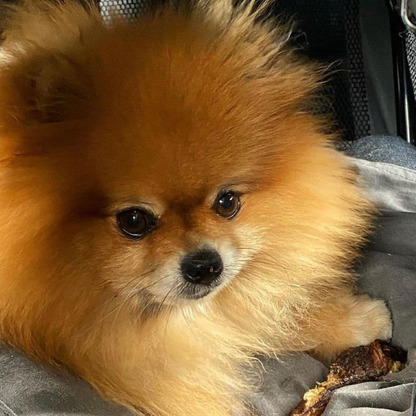Pomeranian: (35, 45, 327, 389)
